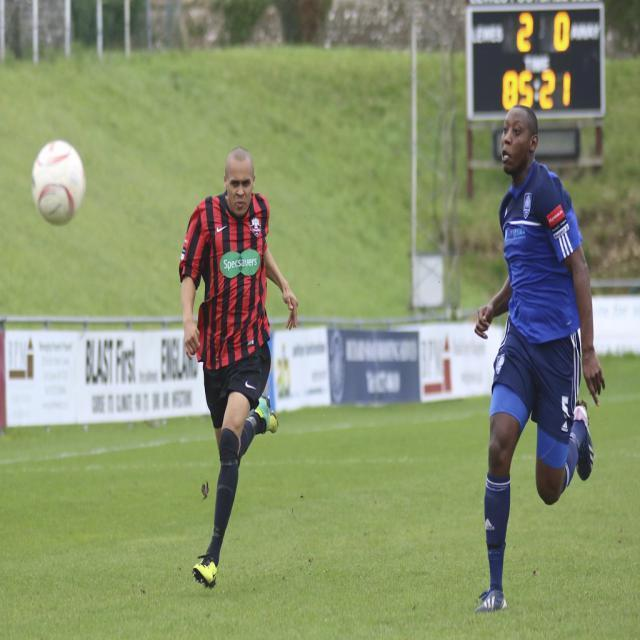football: (18, 126, 92, 241)
